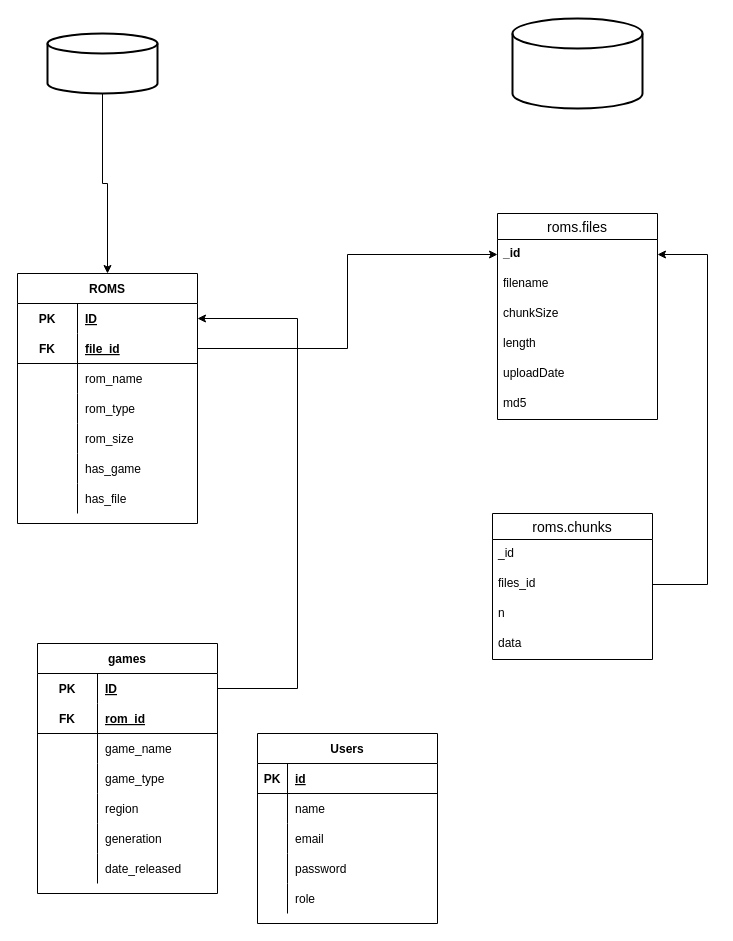
This 733x941 diagram has some shape labels left out. The shapes that lost their labels are listed below. From the top down, each one's centre as x and y in pixels, then its label:
At (x=102, y=63): "pokerom_rebirth".
At (x=577, y=63): "pokerom_files".
